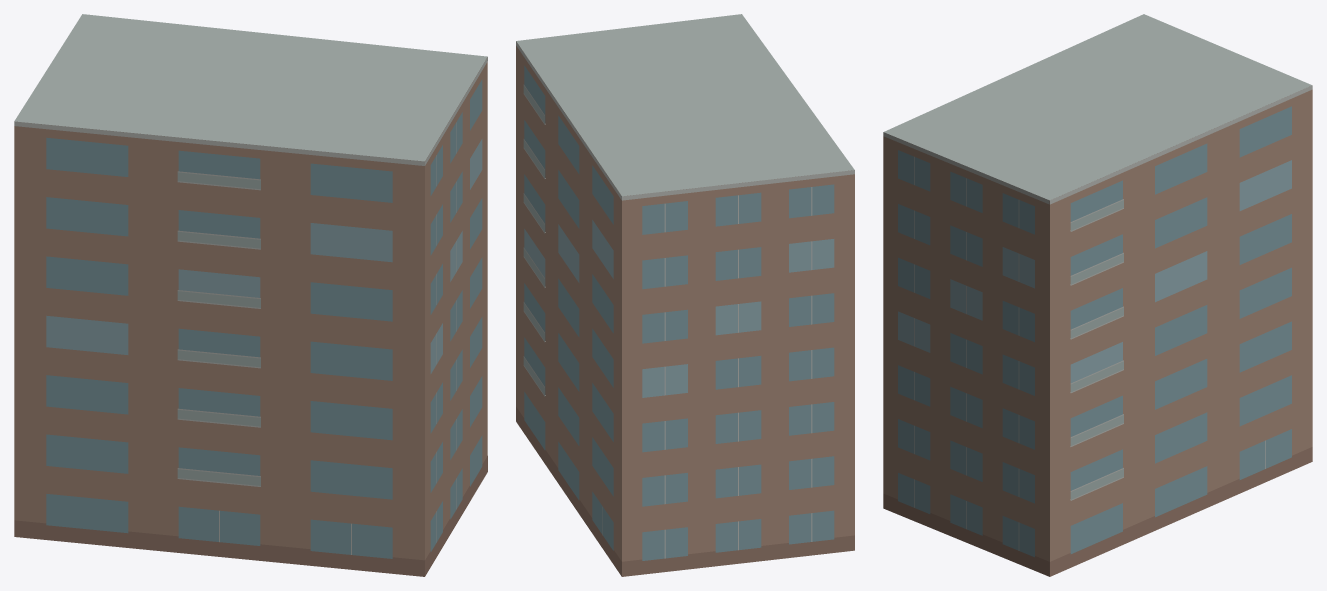
The model's file is survey-upis-32811648.glb.
The picture shows the model from 3 angles, left to right: view 1: azimuth 30°, elevation 25°; view 2: azimuth 150°, elevation 25°; view 3: azimuth 270°, elevation 25°; orthographic projection. The views are drawn at different scales.
Parts seen in each view (by area): view 1: survey-upis-32811648.tmp; view 2: survey-upis-32811648.tmp; view 3: survey-upis-32811648.tmp.
Part boxes in pixels (bbox=[...]): survey-upis-32811648.tmp: bbox=[14, 14, 487, 576]; survey-upis-32811648.tmp: bbox=[516, 14, 854, 576]; survey-upis-32811648.tmp: bbox=[883, 14, 1312, 576].
Bounding box in the file's own units: 23.27 × 21.9 × 22.63.
